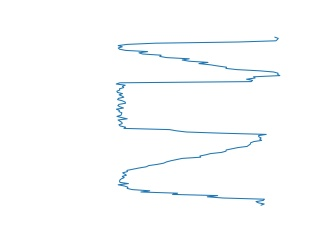distributaryChannelFill: (111, 72, 269, 141)
mouthBar: (115, 34, 284, 77)
underwaterDistributaryChannel: (114, 136, 268, 210)
